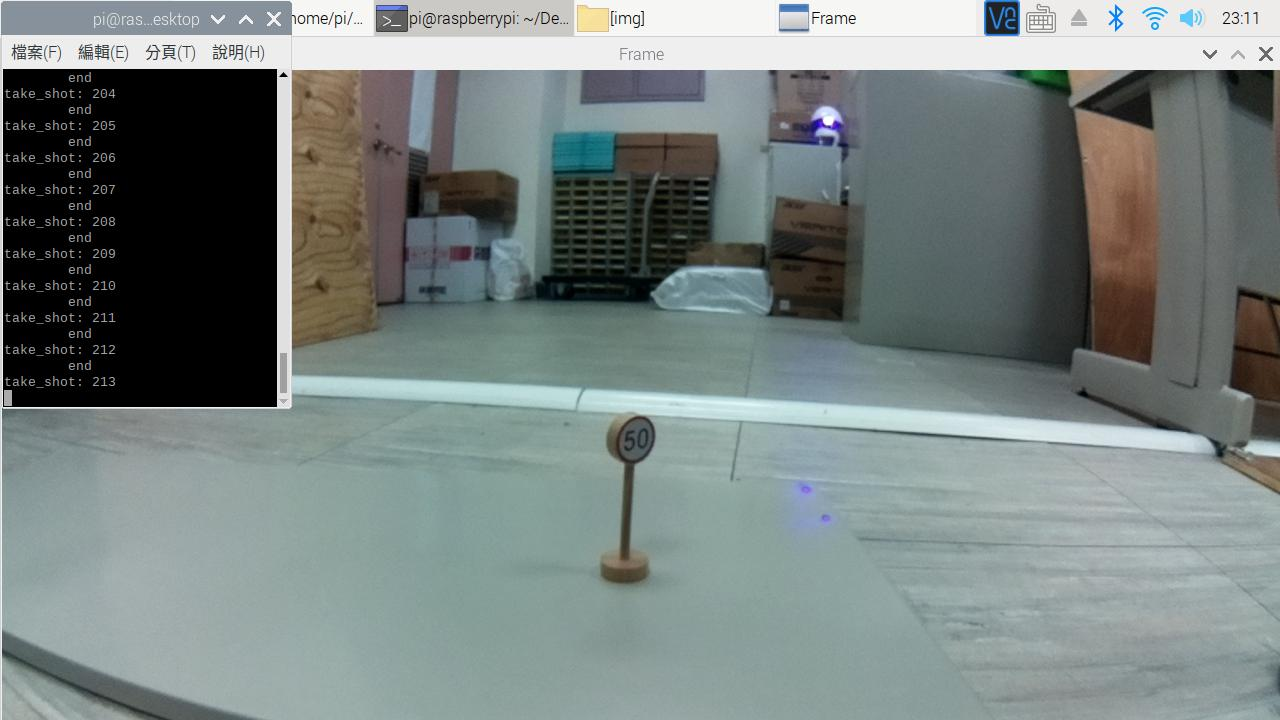Speed50: (582, 399, 682, 491)
